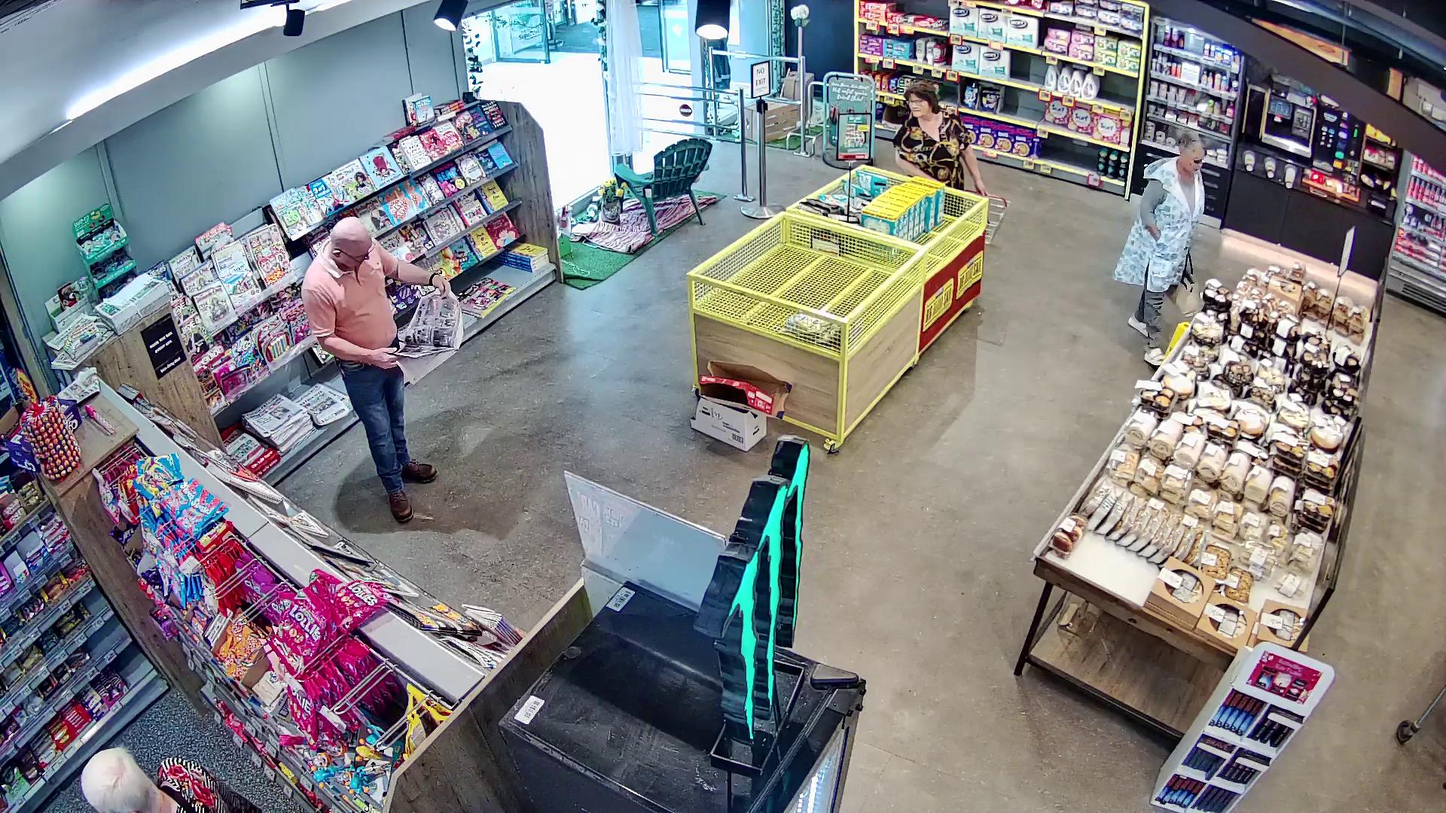backpack-or-handbag: (1165, 249, 1201, 315)
empty-basket: (959, 186, 1011, 244)
person: (1113, 132, 1208, 361), (894, 82, 988, 196)
person-with-backpack-handbag: (1113, 132, 1208, 360)
person-with-empty-basket-trolly: (894, 81, 1011, 244)
